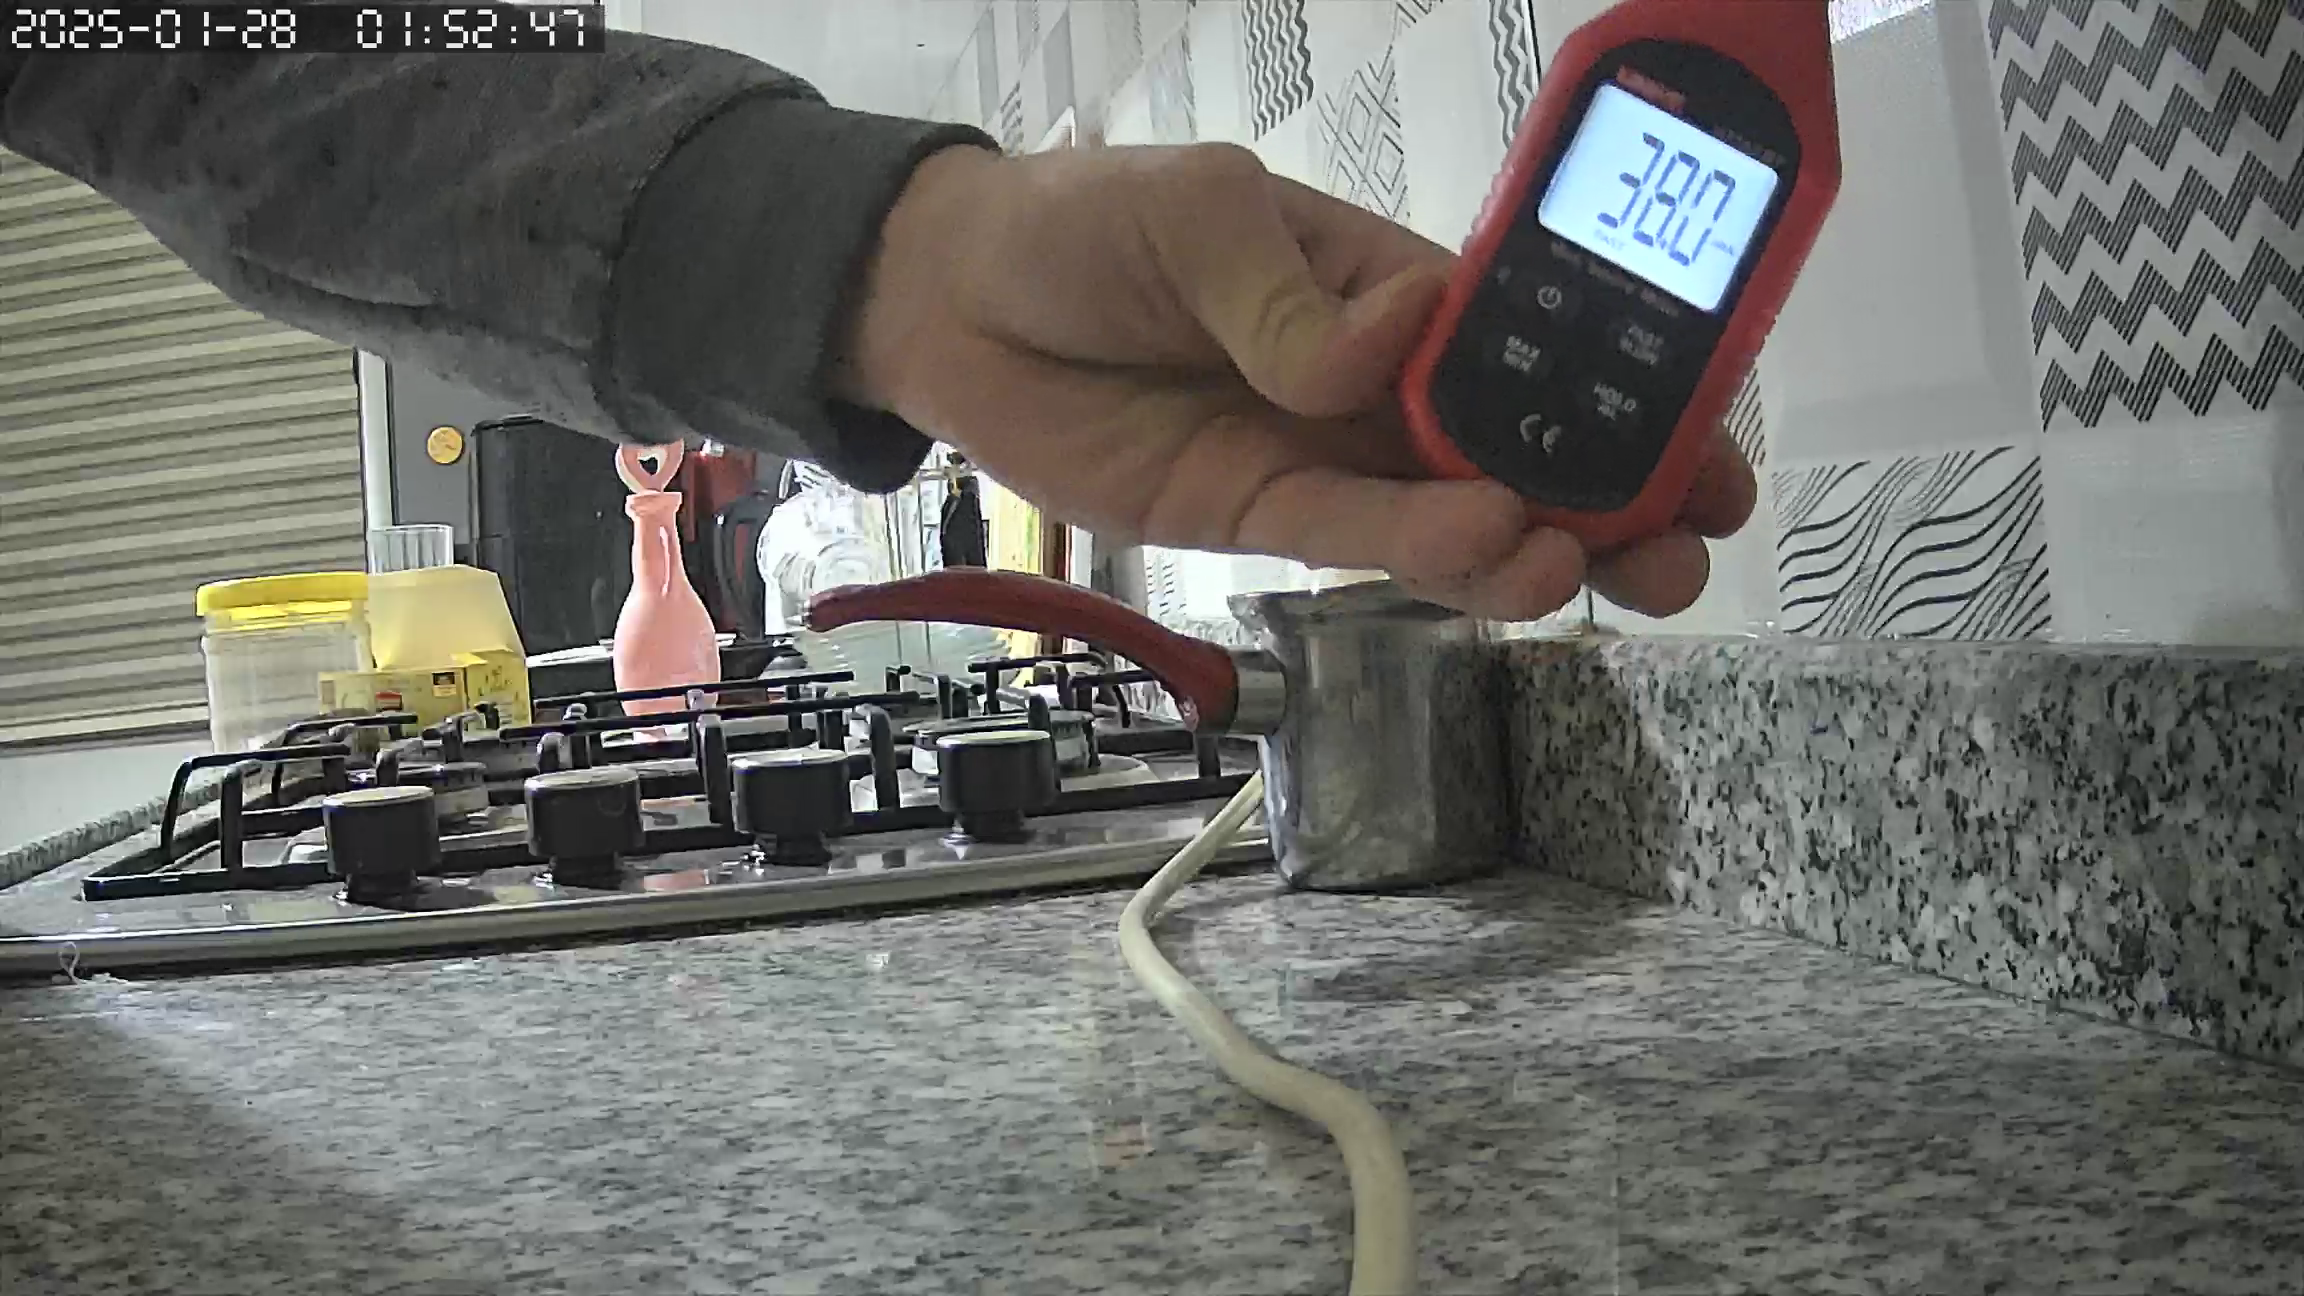screen: (1533, 82, 1779, 315)
